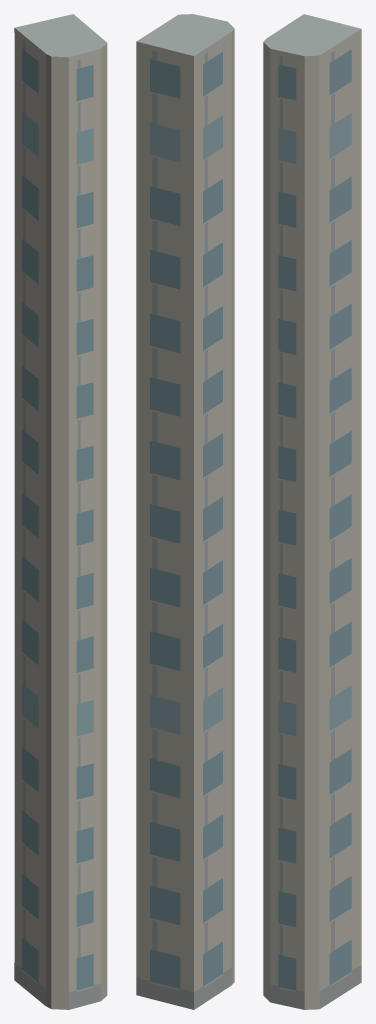
Rendered from survey-upis-32996605.glb.
3 renders of one model, left to right at view 1: azimuth 30°, elevation 25°; view 2: azimuth 150°, elevation 25°; view 3: azimuth 330°, elevation 25°, orthographic.
Parts seen in each view (by area): view 1: survey-upis-32996605.tmp; view 2: survey-upis-32996605.tmp; view 3: survey-upis-32996605.tmp.
Part boxes in pixels (x1=…): survey-upis-32996605.tmp: x1=14, y1=14, x2=107, y2=1009; survey-upis-32996605.tmp: x1=136, y1=14, x2=234, y2=1009; survey-upis-32996605.tmp: x1=263, y1=14, x2=361, y2=1009.
Size of the model in its own units: 3.09 by 45.75 by 3.83.
